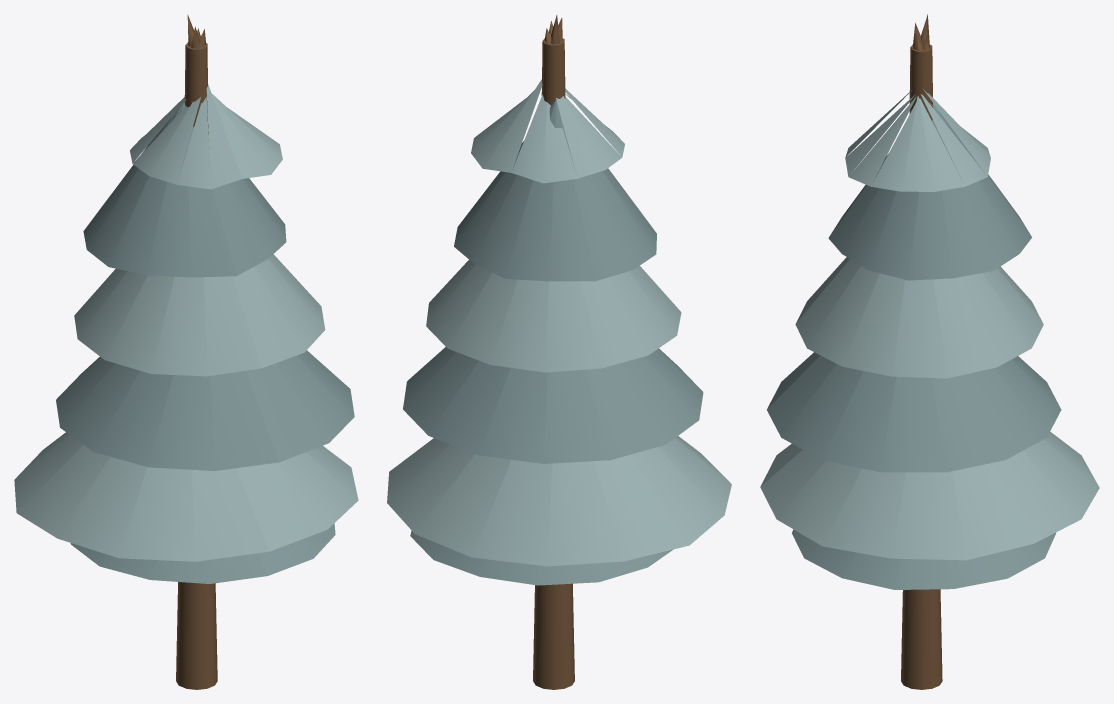
Rendered from ezustfenyo-tort.glb.
The picture shows the model from 3 angles, left to right: view 1: azimuth 30°, elevation 25°; view 2: azimuth 150°, elevation 25°; view 3: azimuth 270°, elevation 25°; orthographic projection.
Visible parts, largest first — view 1: orv-3, orv-4, orv-5, orv-6, orv-7, orv-2, torzs, torzs-csonk; view 2: orv-3, orv-4, orv-5, orv-6, orv-7, orv-2, torzs, torzs-csonk; view 3: orv-3, orv-4, orv-5, orv-6, orv-7, orv-2, torzs, torzs-csonk.
Part boxes in pixels (x1=…): orv-3: x1=14, y1=432, x2=358, y2=561; orv-4: x1=56, y1=350, x2=354, y2=470; orv-5: x1=74, y1=254, x2=325, y2=376; orv-6: x1=83, y1=97, x2=286, y2=277; orv-7: x1=130, y1=84, x2=282, y2=189; orv-2: x1=70, y1=523, x2=335, y2=583; torzs: x1=176, y1=582, x2=217, y2=689; torzs-csonk: x1=184, y1=42, x2=208, y2=134; orv-3: x1=387, y1=436, x2=731, y2=566; orv-4: x1=403, y1=347, x2=703, y2=463; orv-5: x1=426, y1=260, x2=681, y2=372; orv-6: x1=454, y1=98, x2=656, y2=281; orv-7: x1=471, y1=79, x2=624, y2=183; orv-2: x1=410, y1=530, x2=673, y2=585; torzs: x1=533, y1=583, x2=574, y2=689; torzs-csonk: x1=541, y1=38, x2=565, y2=105; orv-3: x1=760, y1=431, x2=1099, y2=560; orv-4: x1=767, y1=352, x2=1061, y2=472; orv-5: x1=795, y1=257, x2=1043, y2=378; orv-6: x1=828, y1=103, x2=1031, y2=280; orv-7: x1=845, y1=89, x2=990, y2=191; orv-2: x1=792, y1=529, x2=1055, y2=589; torzs: x1=901, y1=589, x2=942, y2=689; torzs-csonk: x1=909, y1=44, x2=932, y2=120.
Bounding box in the file's own units: 4.13 × 8.8 × 4.08.
